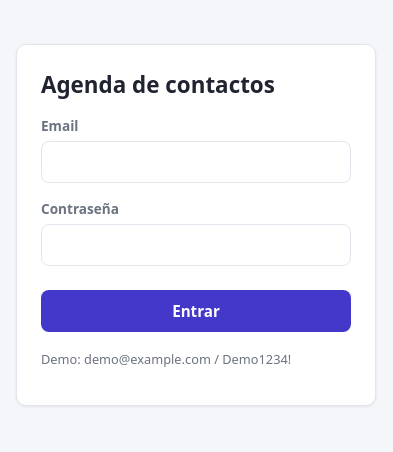
<LoginPage /> › muestra un banner de error si las credenciales son incorrectas
Type "demo@example.com" into the field labelled "Email" at (196, 162), box [41, 141, 351, 183]
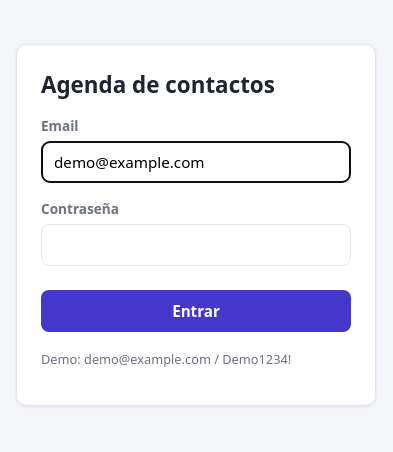
Type "incorrecta" into the password field labelled "Contraseña" at (196, 245), box [41, 224, 351, 266]
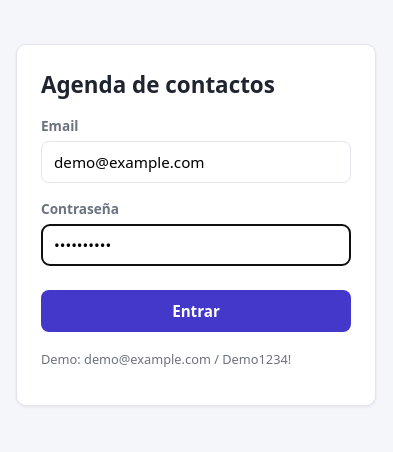
Click the button "Entrar" at (196, 311), box [41, 290, 351, 332]
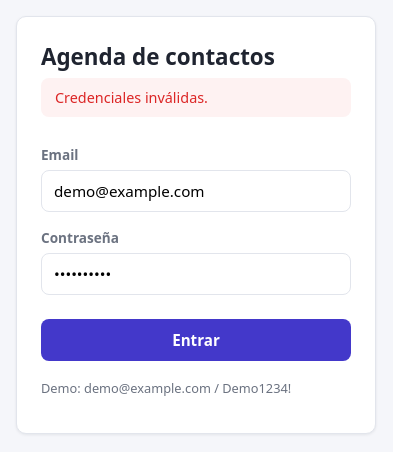
Result: the message reads "Credenciales inválidas." at [55, 88, 208, 107]
